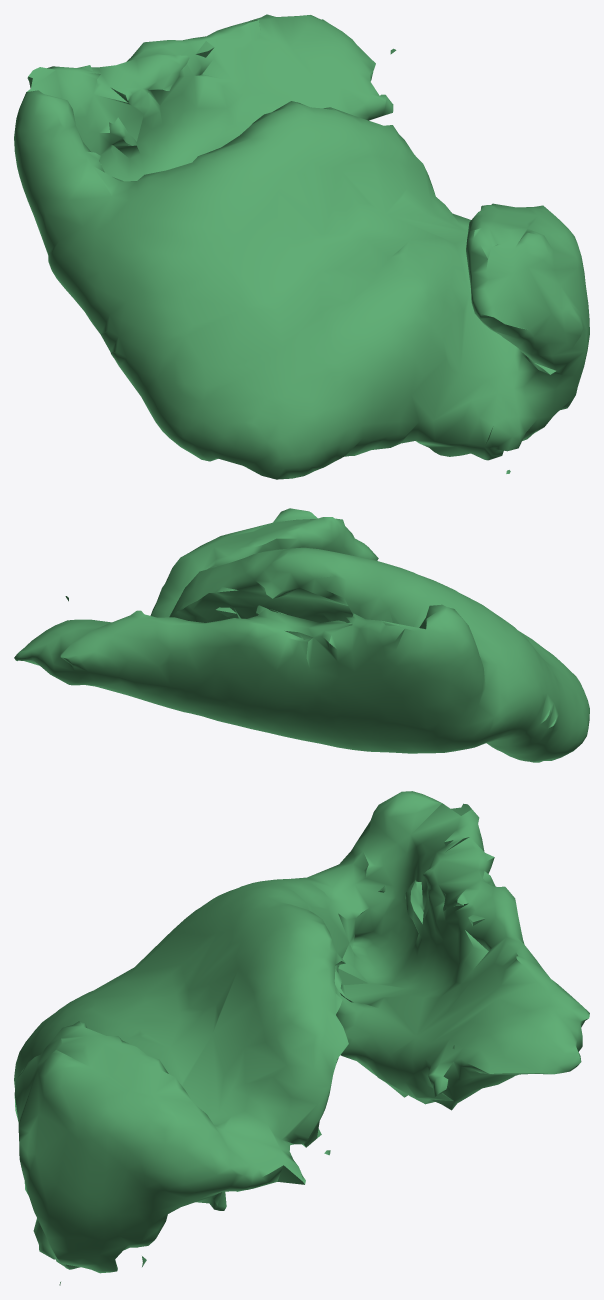
The model's file is spl-2001.glb.
3 views of the same model, one above another, from view 1: azimuth 30°, elevation 25°; view 2: azimuth 150°, elevation 25°; view 3: azimuth 270°, elevation 25° (orthographic). The views are drawn at different scales.
Visible parts, largest first — view 1: spl-2001; view 2: spl-2001; view 3: spl-2001.
Boxes of the visible parts, x1,y1,x2,y2 form: spl-2001: (14, 14, 589, 479); spl-2001: (14, 508, 589, 762); spl-2001: (14, 791, 589, 1285).
Bounding box in the file's own units: 25.25 × 18.31 × 27.98.
